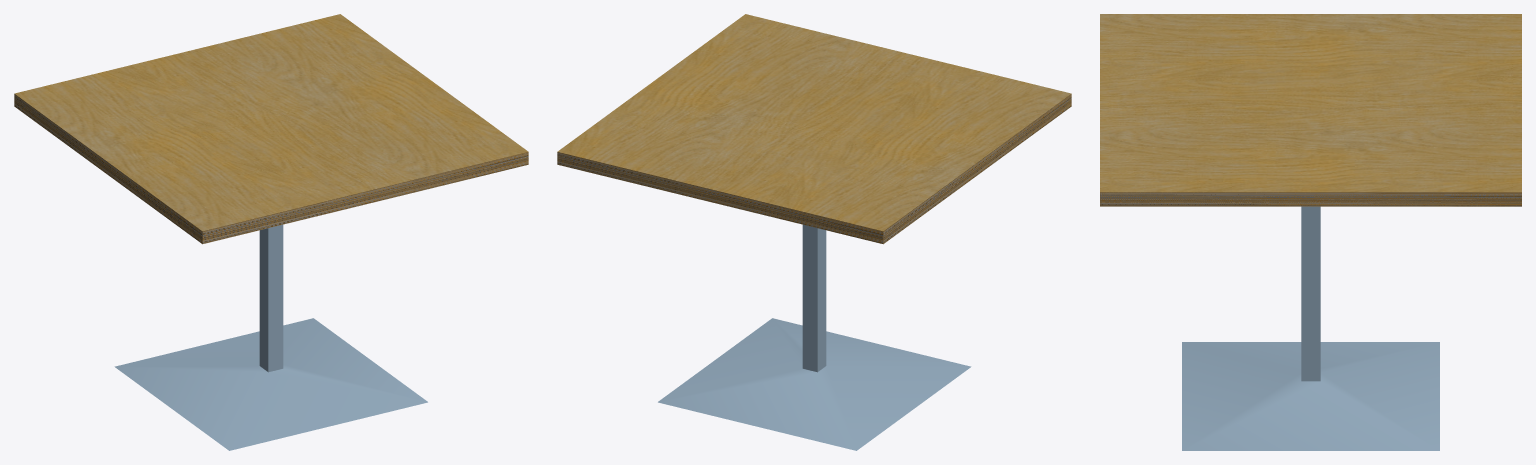
Rendered from cafe_table.dae.
3 renders of one model, left to right at view 1: azimuth 30°, elevation 25°; view 2: azimuth 150°, elevation 25°; view 3: azimuth 270°, elevation 25°, orthographic. The views are drawn at different scales.
Parts seen in each view (by area): view 1: Top_Square_004, SketchUp, Top_Square_003; view 2: Top_Square_004, SketchUp, Top_Square_003; view 3: Top_Square_004, SketchUp, Top_Square_003.
Boxes of the visible parts, left/top/right/bottom form: Top_Square_004: left=14, top=14, right=528, bottom=231; SketchUp: left=114, top=224, right=427, bottom=450; Top_Square_003: left=14, top=94, right=528, bottom=244; Top_Square_004: left=557, top=14, right=1071, bottom=231; SketchUp: left=658, top=224, right=971, bottom=450; Top_Square_003: left=557, top=94, right=1071, bottom=244; Top_Square_004: left=1100, top=14, right=1521, bottom=192; SketchUp: left=1182, top=206, right=1439, bottom=450; Top_Square_003: left=1100, top=192, right=1521, bottom=206.
Bounding box in the file's own units: 0.9144 × 0.9144 × 0.7015.
3 materials, 2 textured.
